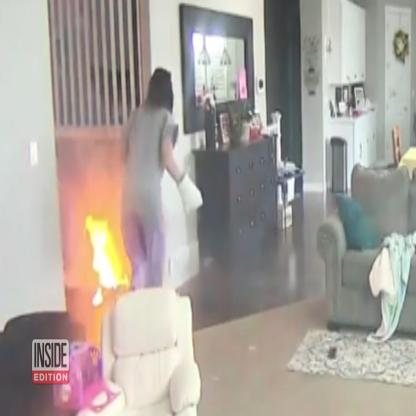fire: (86, 217, 129, 305)
